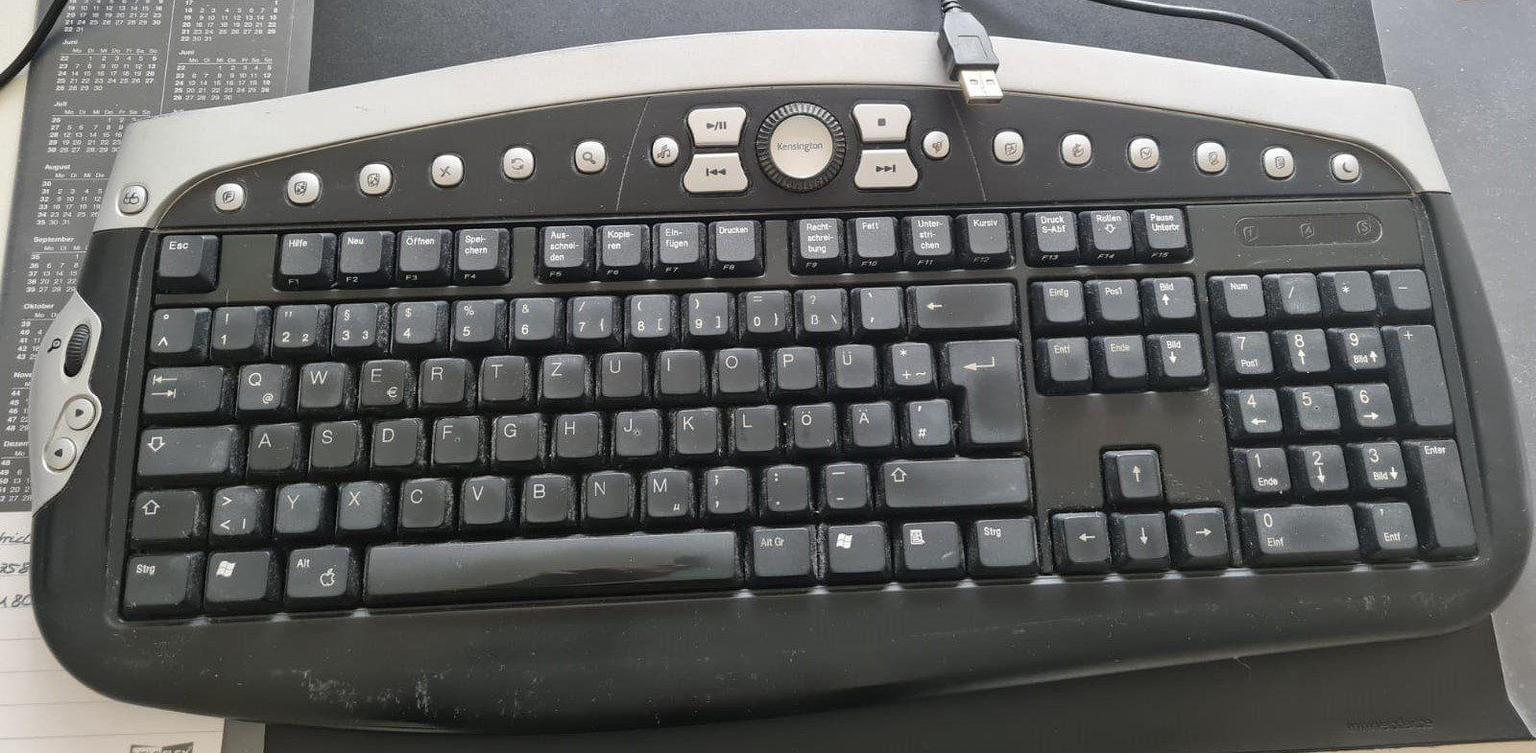0: (739, 285, 788, 333)
1: (207, 302, 254, 349)
2: (270, 300, 319, 347)
3: (329, 297, 376, 346)
4: (391, 296, 437, 342)
5: (449, 295, 494, 341)
6: (508, 293, 554, 340)
7: (566, 291, 612, 337)
8: (623, 289, 670, 337)
9: (682, 287, 727, 335)
a: (245, 419, 293, 469)
accent: (852, 281, 899, 328)
ae: (846, 397, 891, 445)
alt-left: (281, 541, 349, 597)
altgr-right: (746, 521, 808, 575)
b: (518, 469, 568, 520)
c: (396, 474, 445, 525)
caret: (146, 304, 193, 350)
comma: (701, 463, 747, 512)
d: (368, 414, 416, 464)
del: (909, 277, 1012, 326)
e: (355, 355, 405, 405)
enter: (942, 334, 1021, 442)
f: (429, 412, 477, 461)
g: (490, 410, 538, 459)
h: (550, 408, 597, 456)
hash: (902, 394, 948, 444)
i: (654, 345, 700, 392)
j: (611, 405, 658, 454)
k: (670, 403, 716, 452)
keyboard: (84, 192, 1510, 636)
l: (729, 401, 775, 450)
less: (206, 481, 259, 535)
m: (639, 465, 689, 516)
minus: (819, 459, 865, 507)
n: (581, 467, 629, 517)
o: (712, 343, 758, 391)
oe: (787, 398, 833, 447)
p: (771, 341, 815, 388)
plus: (886, 338, 931, 383)
point: (759, 461, 806, 509)
q: (232, 359, 284, 409)
r: (416, 353, 464, 401)
s: (306, 416, 355, 465)
shift-left: (125, 486, 196, 539)
shift-lock: (133, 421, 230, 473)
shift-right: (878, 453, 1027, 505)
space: (358, 528, 737, 596)
ss: (794, 284, 842, 331)
strg-left: (117, 551, 188, 610)
strg-right: (969, 513, 1035, 566)
t: (476, 350, 524, 399)
tab: (139, 360, 221, 412)
u: (596, 347, 641, 395)
ue: (828, 339, 874, 387)
v: (458, 471, 504, 521)
w: (296, 357, 342, 405)
x: (335, 477, 381, 527)
y: (271, 479, 320, 530)
z: (539, 349, 583, 396)
